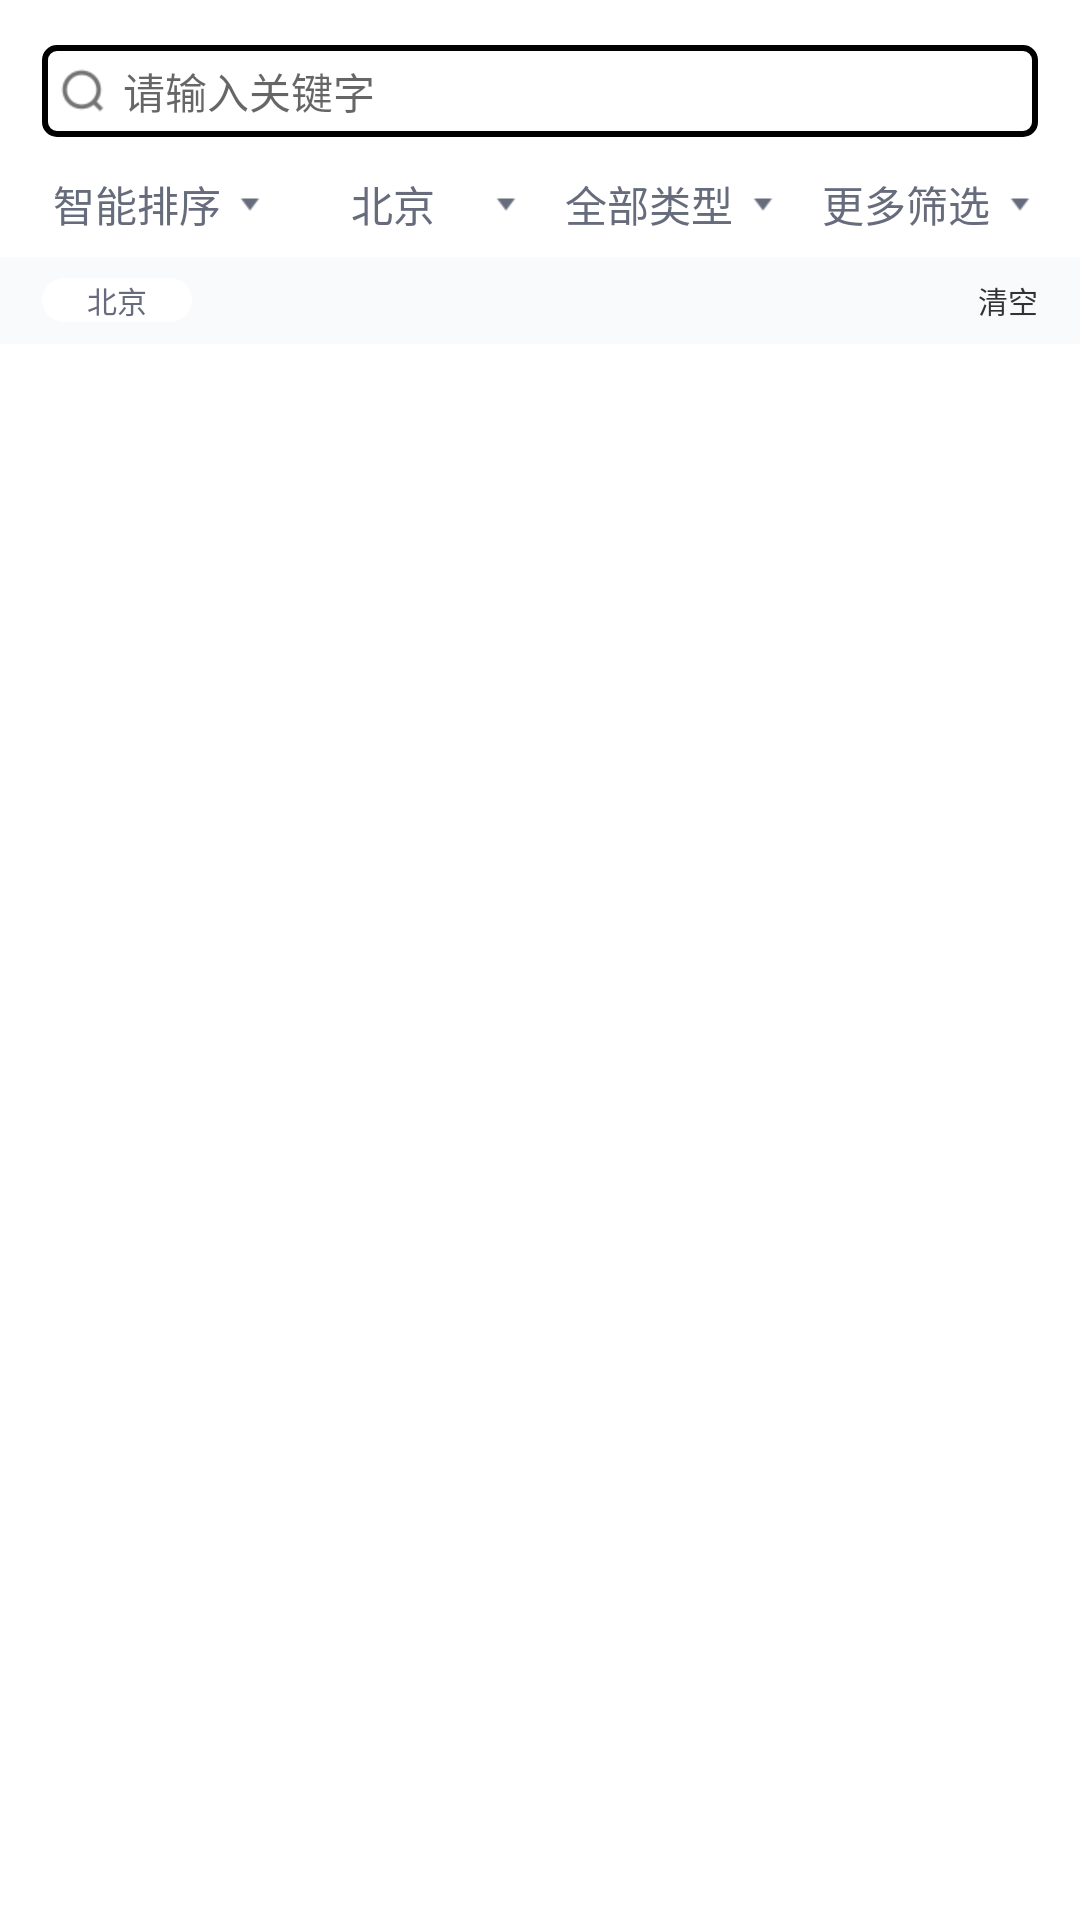

Named icons in this screenshot (1080×1920) and their bounding boxes, (x1, y1, x2, y2):
search: (62, 70, 104, 112)
